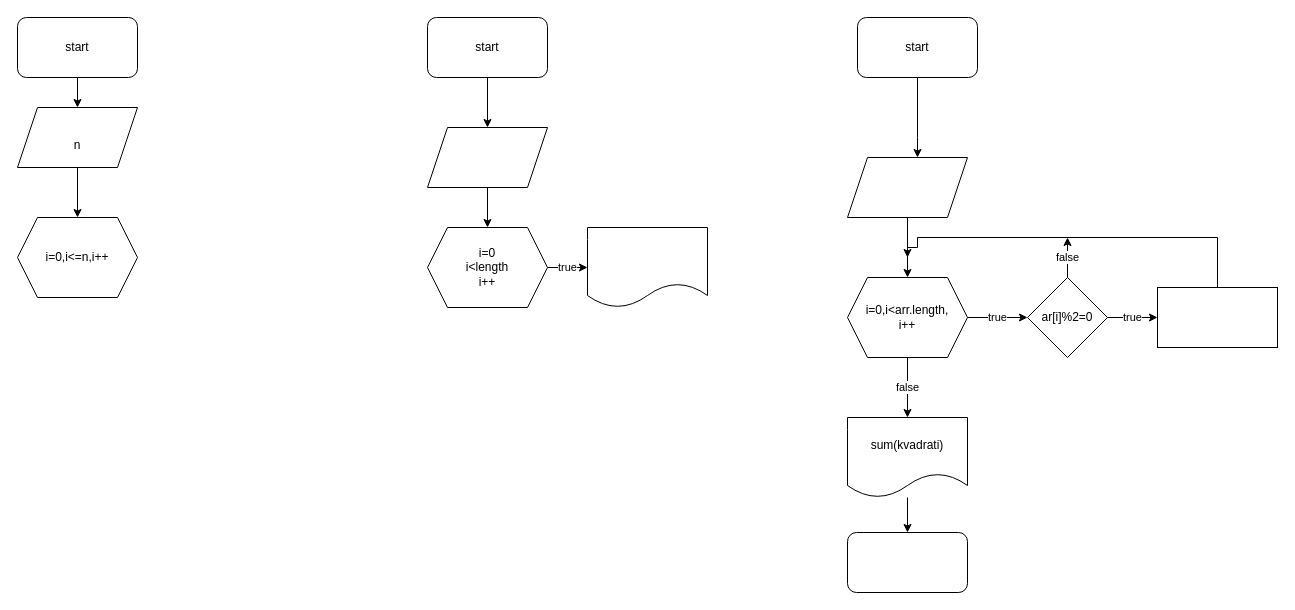
Some shapes in this 1295 by 610 pixel diagram are drawn without their labels. The shapes that lost their labels are listed below. From the top down, each one's centre as x and y in pixels, then its label:
At point (487, 157): "[] arr hasil".
At point (907, 187): "arr, sum=0, kvadrati".
At point (647, 267): "arr[i]".
At point (1217, 317): "sum=sum+arr[i]".
At point (907, 562): "end".
